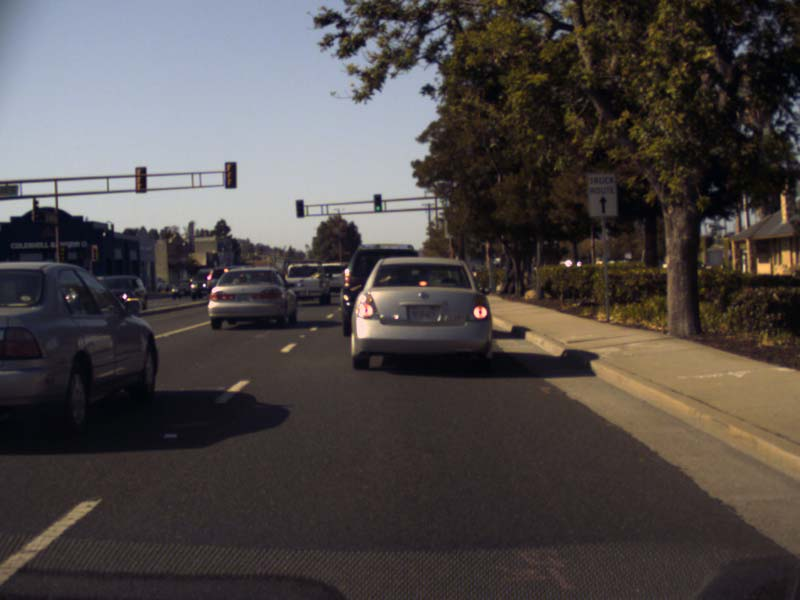Green: (373, 194, 381, 211)
